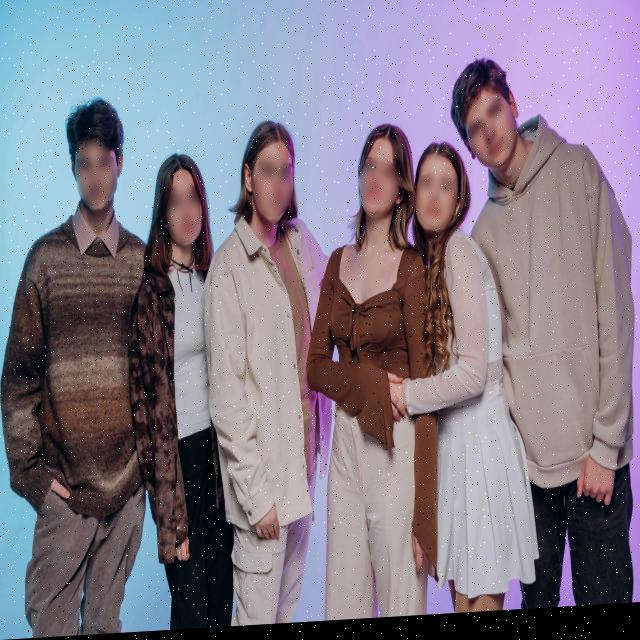Person: (458, 42, 636, 618), (3, 85, 154, 640), (205, 99, 345, 630), (318, 122, 422, 625), (132, 139, 230, 634), (412, 137, 492, 621)
